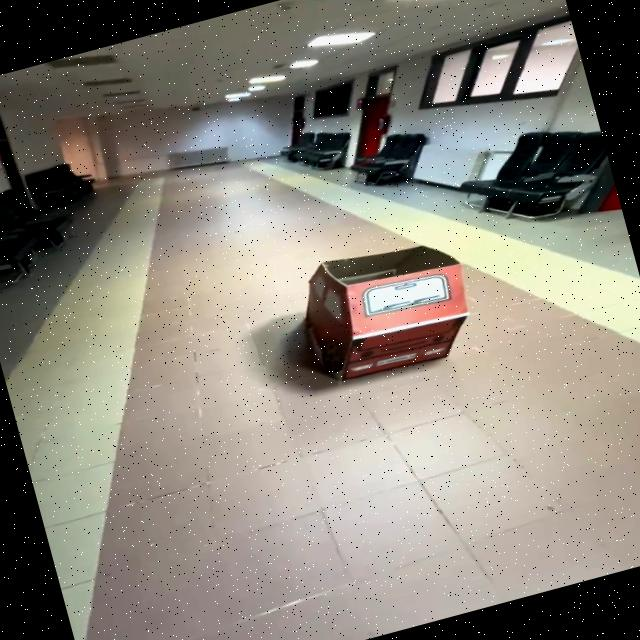red_car: (251, 211, 509, 417)
